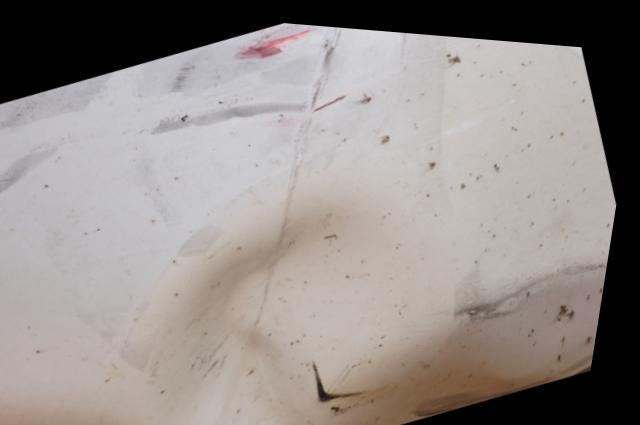dent: (129, 165, 600, 425)
scratch: (0, 18, 349, 196)
